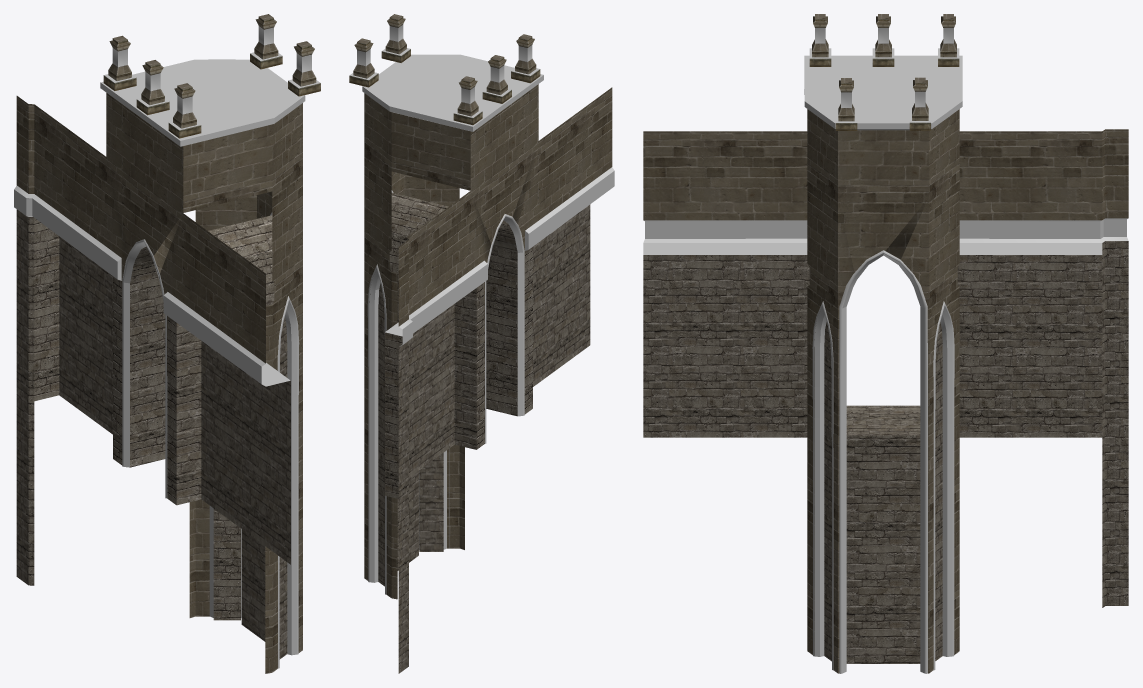
File: SM_TowerGateHouse.FBX
The picture shows the model from 3 angles, left to right: view 1: azimuth 30°, elevation 25°; view 2: azimuth 150°, elevation 25°; view 3: azimuth 270°, elevation 25°; orthographic projection. The views are drawn at different scales.
Visible parts, largest first — view 1: SM_TowerGateHouse; view 2: SM_TowerGateHouse; view 3: SM_TowerGateHouse.
Part boxes in pixels (left/top/right/bottom): SM_TowerGateHouse: left=14, top=14, right=320, bottom=673; SM_TowerGateHouse: left=349, top=14, right=614, bottom=673; SM_TowerGateHouse: left=643, top=14, right=1128, bottom=673.
Size of what is drawn, in the model's own units: 929 by 2468 by 3342.
